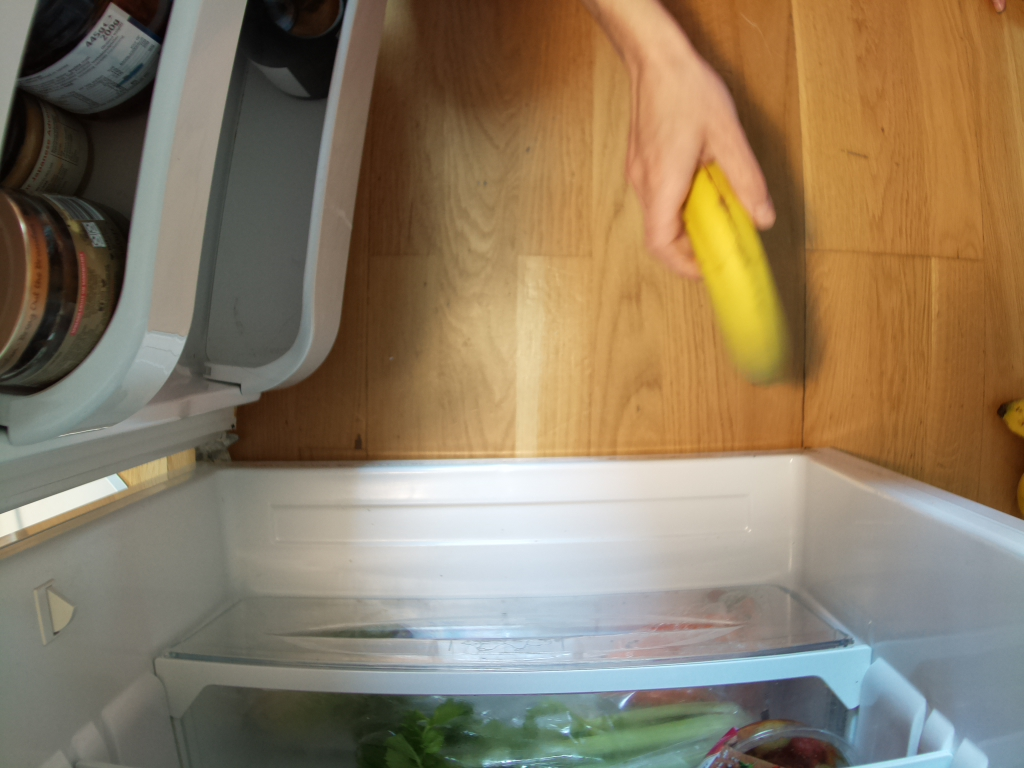banana: (677, 159, 796, 384)
